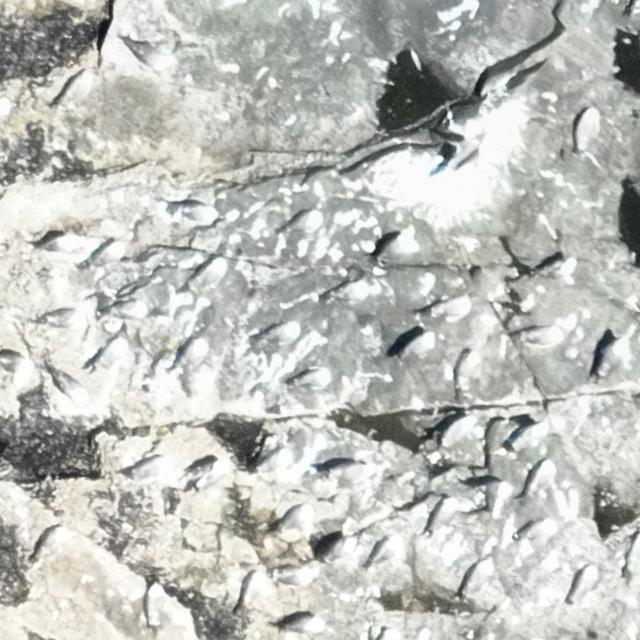umineko: (44, 361, 87, 406), (432, 416, 480, 456), (126, 36, 176, 69), (185, 457, 230, 490), (457, 559, 495, 598), (190, 258, 230, 294), (503, 424, 548, 455), (166, 197, 220, 222), (595, 338, 629, 376), (264, 504, 312, 530), (237, 570, 264, 616), (566, 566, 600, 602), (58, 69, 93, 103), (248, 449, 292, 476), (513, 324, 566, 346), (451, 351, 478, 394), (34, 524, 66, 560), (426, 497, 456, 535), (398, 332, 438, 360), (528, 458, 556, 498), (85, 243, 126, 269), (270, 564, 314, 588), (122, 455, 165, 479), (367, 535, 400, 566), (93, 340, 126, 370), (41, 308, 86, 330), (330, 458, 377, 479), (324, 283, 368, 305), (256, 322, 302, 343), (173, 339, 206, 368), (575, 107, 597, 149), (282, 210, 324, 232), (288, 368, 330, 390), (144, 583, 165, 627), (274, 615, 324, 633), (104, 300, 146, 321), (423, 298, 471, 316), (376, 241, 420, 260), (41, 235, 81, 254), (1, 351, 24, 367)
